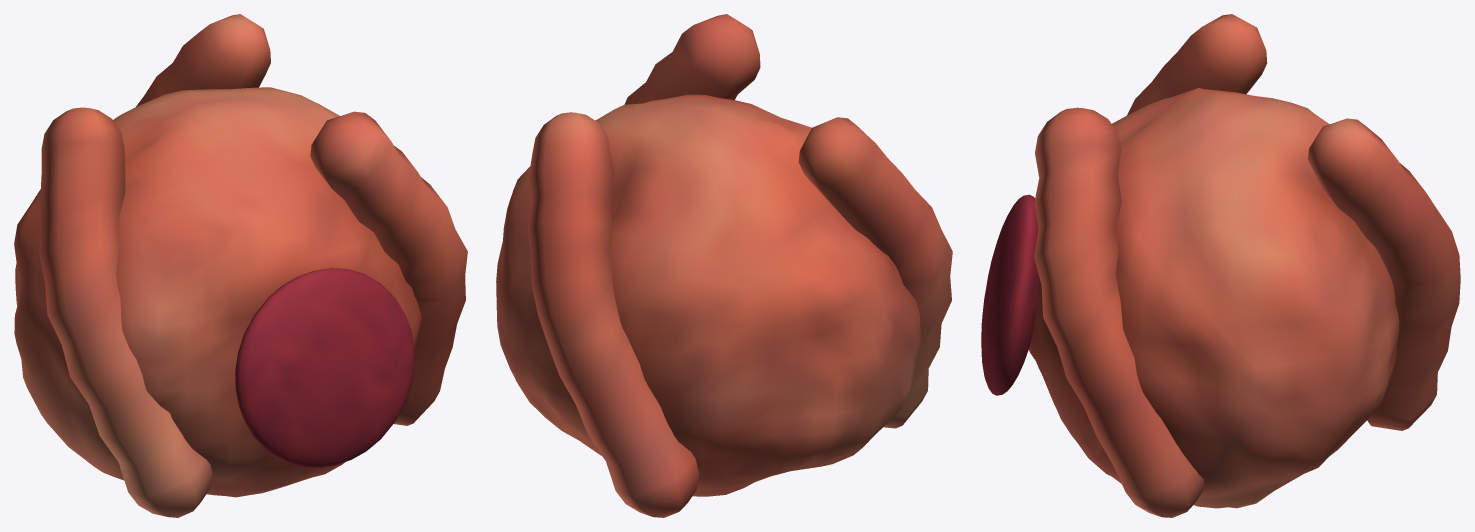
Rendered from cytochrome-c.glb.
The picture shows the model from 3 angles, left to right: view 1: azimuth 30°, elevation 25°; view 2: azimuth 150°, elevation 25°; view 3: azimuth 270°, elevation 25°; orthographic projection.
Parts seen in each view (by area): view 1: cytochrome-c-protein, cytochrome-c-heme; view 2: cytochrome-c-protein; view 3: cytochrome-c-protein, cytochrome-c-heme.
Part boxes in pixels (x1,y1,x2,y2): cytochrome-c-protein: (14,14,467,517); cytochrome-c-heme: (235,268,414,467); cytochrome-c-protein: (496,14,952,517); cytochrome-c-protein: (1029,14,1460,517); cytochrome-c-heme: (981,194,1038,395).
Size of what is drawn, in the model's own units: 0.7544 by 0.7314 by 0.7986.
